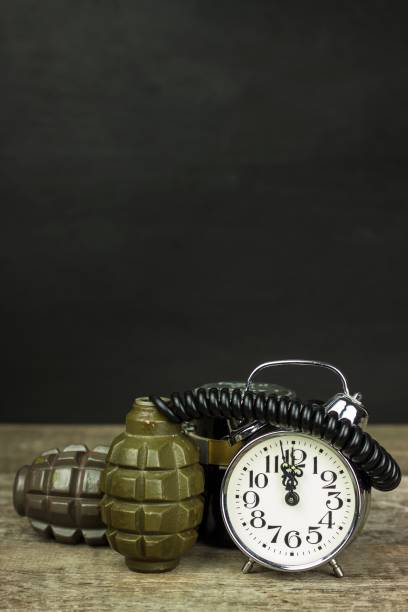e1: (98, 394, 208, 577)
